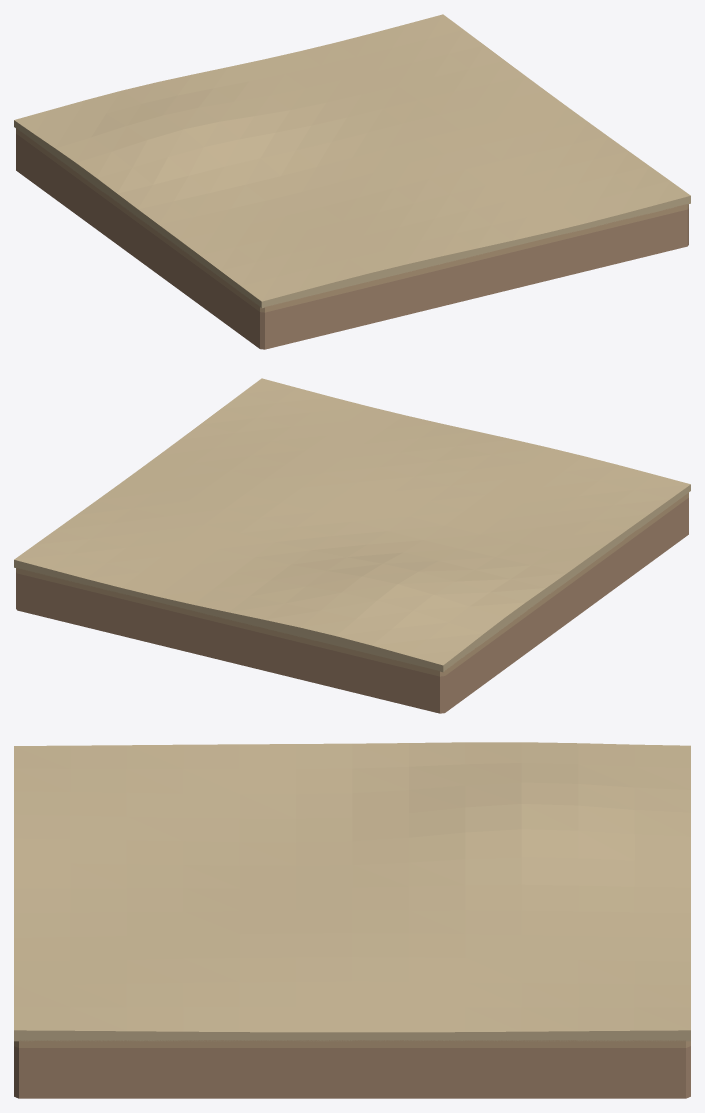
The picture shows the model from 3 angles, top to bottom: view 1: azimuth 30°, elevation 25°; view 2: azimuth 150°, elevation 25°; view 3: azimuth 270°, elevation 25°; orthographic projection. The views are drawn at different scales.
Parts seen in each view (by area): view 1: B07; view 2: B07; view 3: B07.
Boxes of the visible parts, x1=… form: B07: x1=14, y1=14, x2=690, y2=349; B07: x1=14, y1=378, x2=690, y2=713; B07: x1=14, y1=742, x2=690, y2=1098.
Bounding box in the file's own units: 8 × 1.05 × 8.
